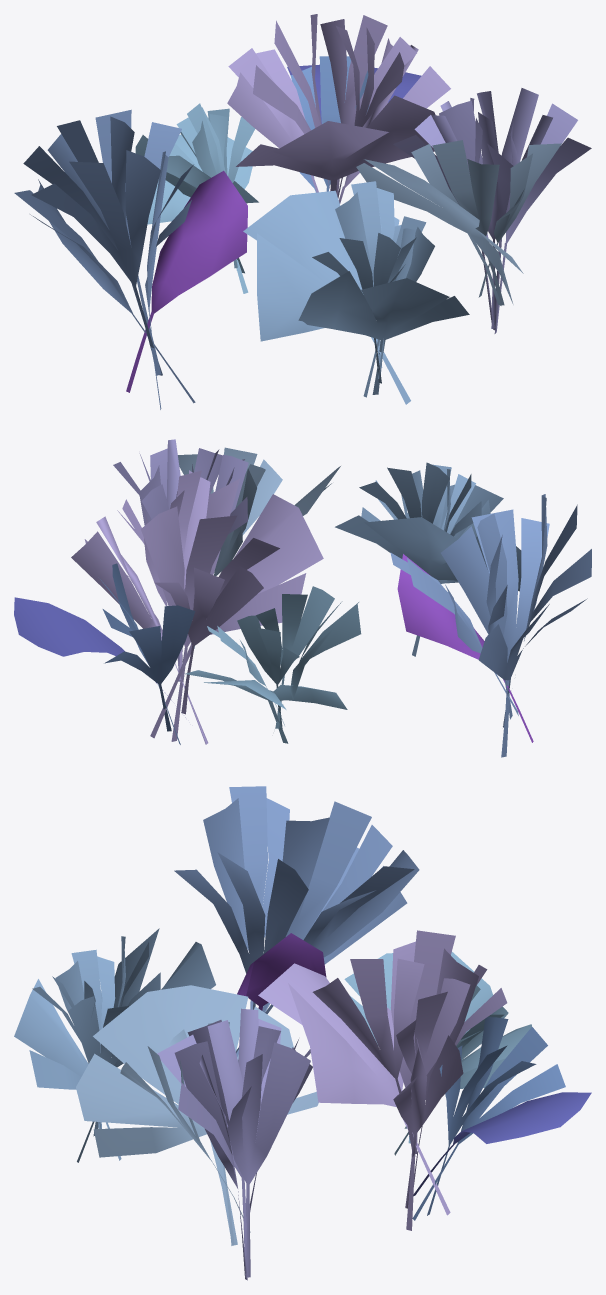
The picture shows the model from 3 angles, top to bottom: view 1: azimuth 30°, elevation 25°; view 2: azimuth 150°, elevation 25°; view 3: azimuth 270°, elevation 25°; orthographic projection. The views are drawn at different scales.
Parts seen in each view (by area): view 1: SM_BS_FanPalm_80cm_HD; view 2: SM_BS_FanPalm_80cm_HD; view 3: SM_BS_FanPalm_80cm_HD.
Boxes of the visible parts, x1,y1,x2,y2 form: SM_BS_FanPalm_80cm_HD: (14,14,591,409); SM_BS_FanPalm_80cm_HD: (14,439,591,757); SM_BS_FanPalm_80cm_HD: (14,786,591,1280).
Bounding box in the file's own units: 80.52 × 87.8 × 44.72.
